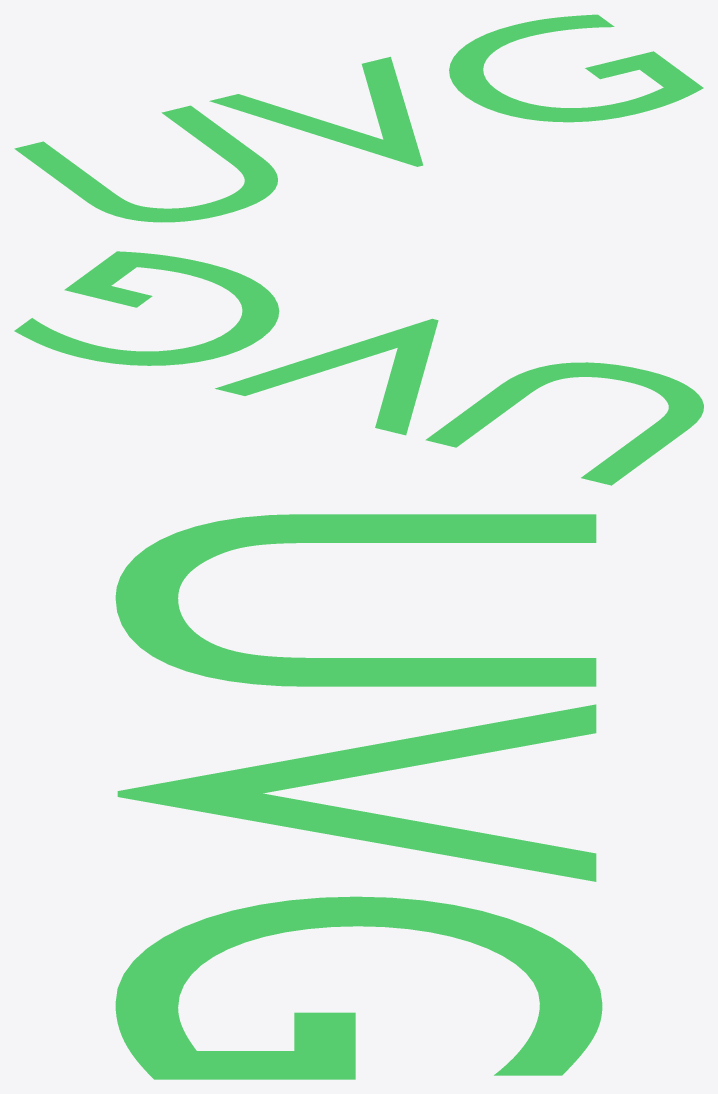
File: uvg.gltf
3 views of the same model, one above another, from view 1: azimuth 30°, elevation 25°; view 2: azimuth 150°, elevation 25°; view 3: azimuth 270°, elevation 25° (orthographic). The views are drawn at different scales.
Visible parts, largest first — view 1: Text; view 2: Text; view 3: Text.
Part boxes in pixels (x1=…): Text: x1=14, y1=14, x2=703, y2=222; Text: x1=14, y1=251, x2=703, y2=485; Text: x1=115, y1=514, x2=602, y2=1079.
Size of the model in its own units: 1.92 by 0 by 0.7.
